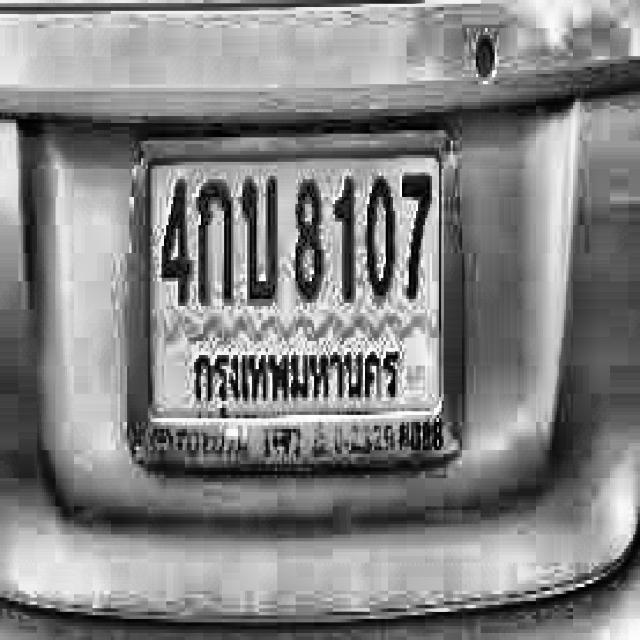license-plate: (118, 122, 480, 472)
